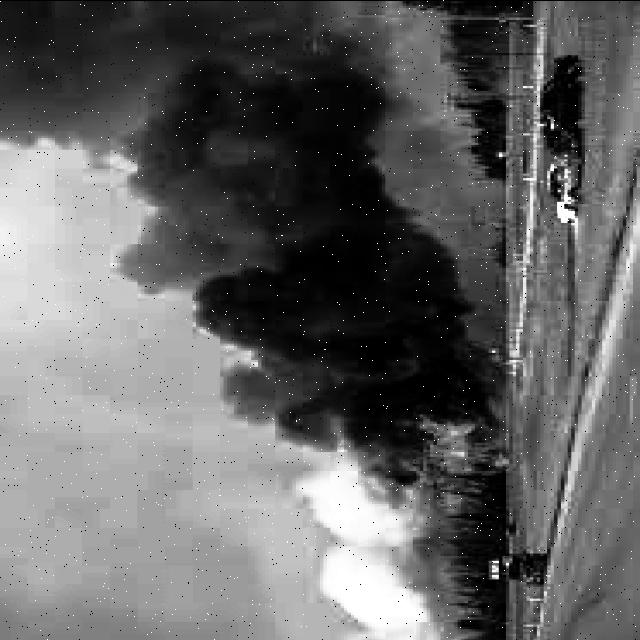api: (397, 393, 507, 518)
